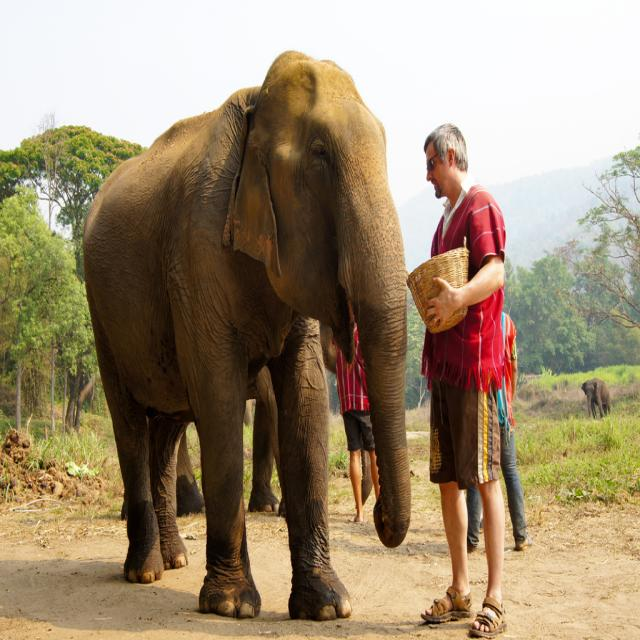Elephant: (82, 44, 406, 621)
